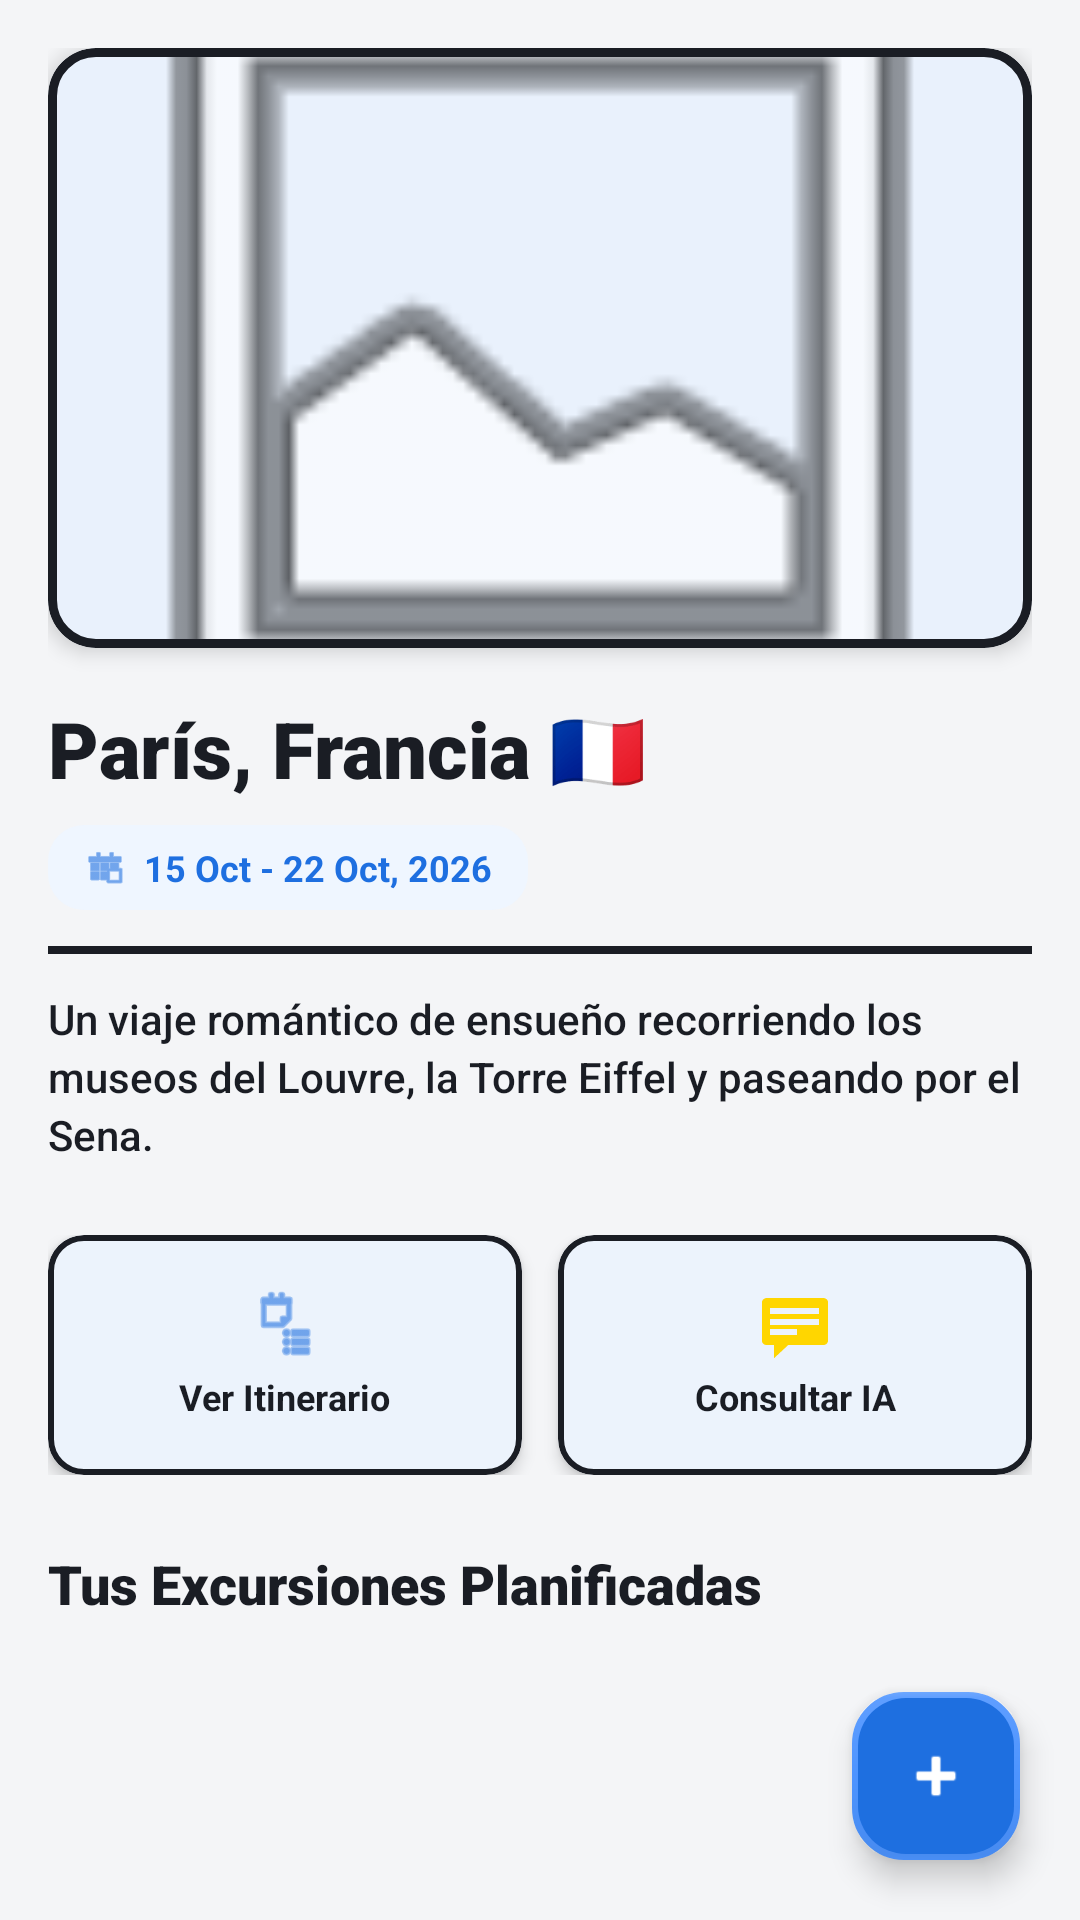

Icons on this 1080 x 1920 Android screen, each with the point to tap as [x,y]:
Añadir excursión: [936,1776]
Icono chat IA: [795,1328]
Icono fecha: [105,868]
